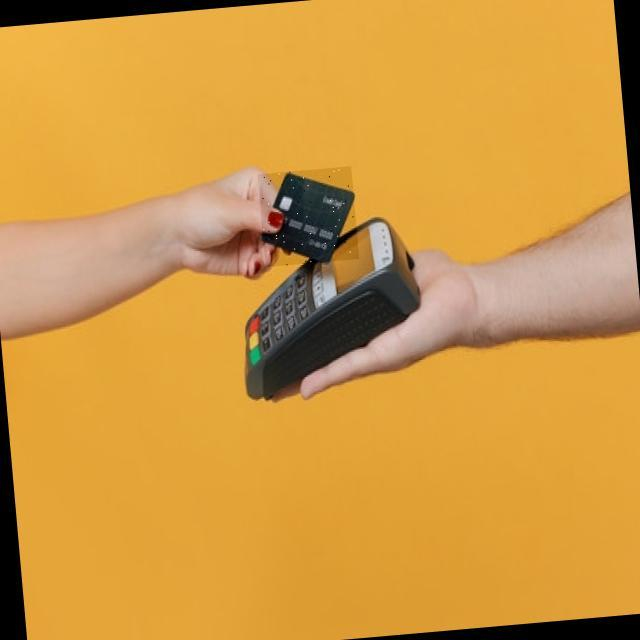payment_card: (258, 166, 356, 263)
